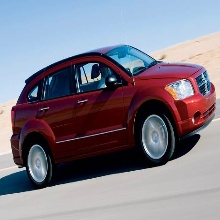no damage: (10, 44, 218, 185)
